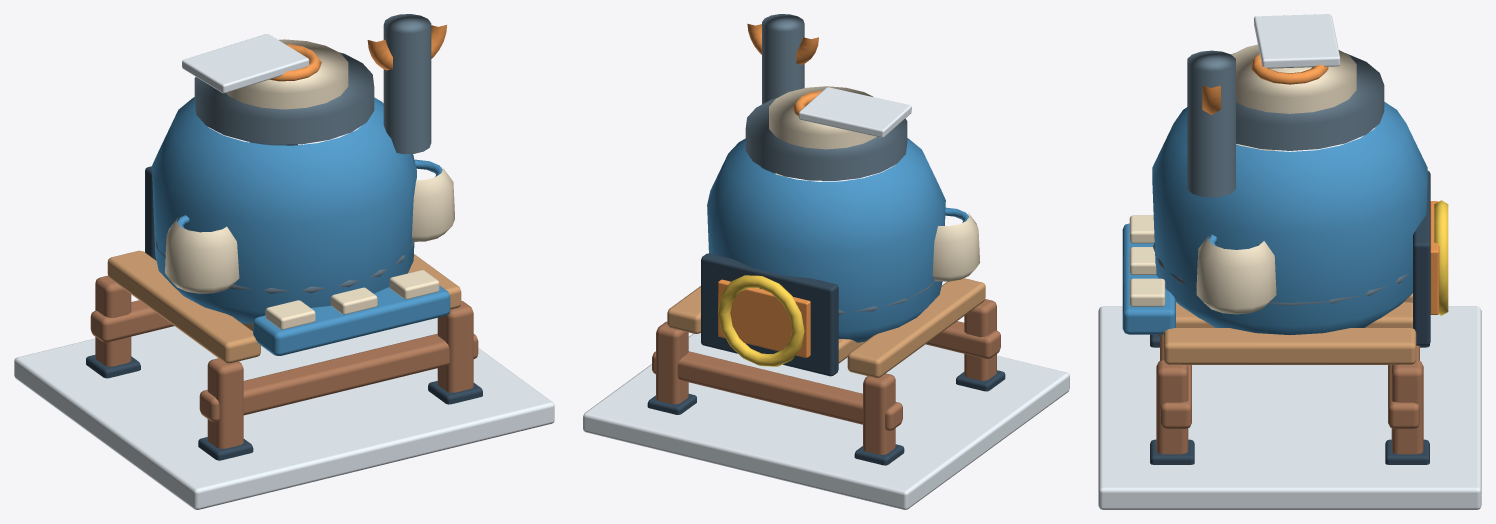
File: cooker_processor.glb
3 renders of one model, left to right at view 1: azimuth 30°, elevation 25°; view 2: azimuth 150°, elevation 25°; view 3: azimuth 270°, elevation 25°, orthographic. The views are drawn at different scales.
Visible parts, largest first — view 1: cooker_processor; view 2: cooker_processor; view 3: cooker_processor.
Boxes of the visible parts, box(x1,y1,x2,y2) form: cooker_processor: box(14, 14, 554, 509); cooker_processor: box(583, 14, 1069, 509); cooker_processor: box(1098, 14, 1481, 509).
Bounding box in the file's own units: 2.45 × 2.49 × 2.15.
